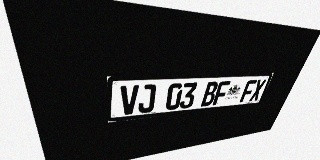0: (165, 83, 184, 111)
3: (179, 82, 198, 109)
B: (201, 81, 219, 107)
F: (212, 81, 231, 105), (239, 80, 257, 102)
J: (138, 84, 156, 113)
V: (120, 85, 139, 115)
X: (249, 79, 266, 101)
